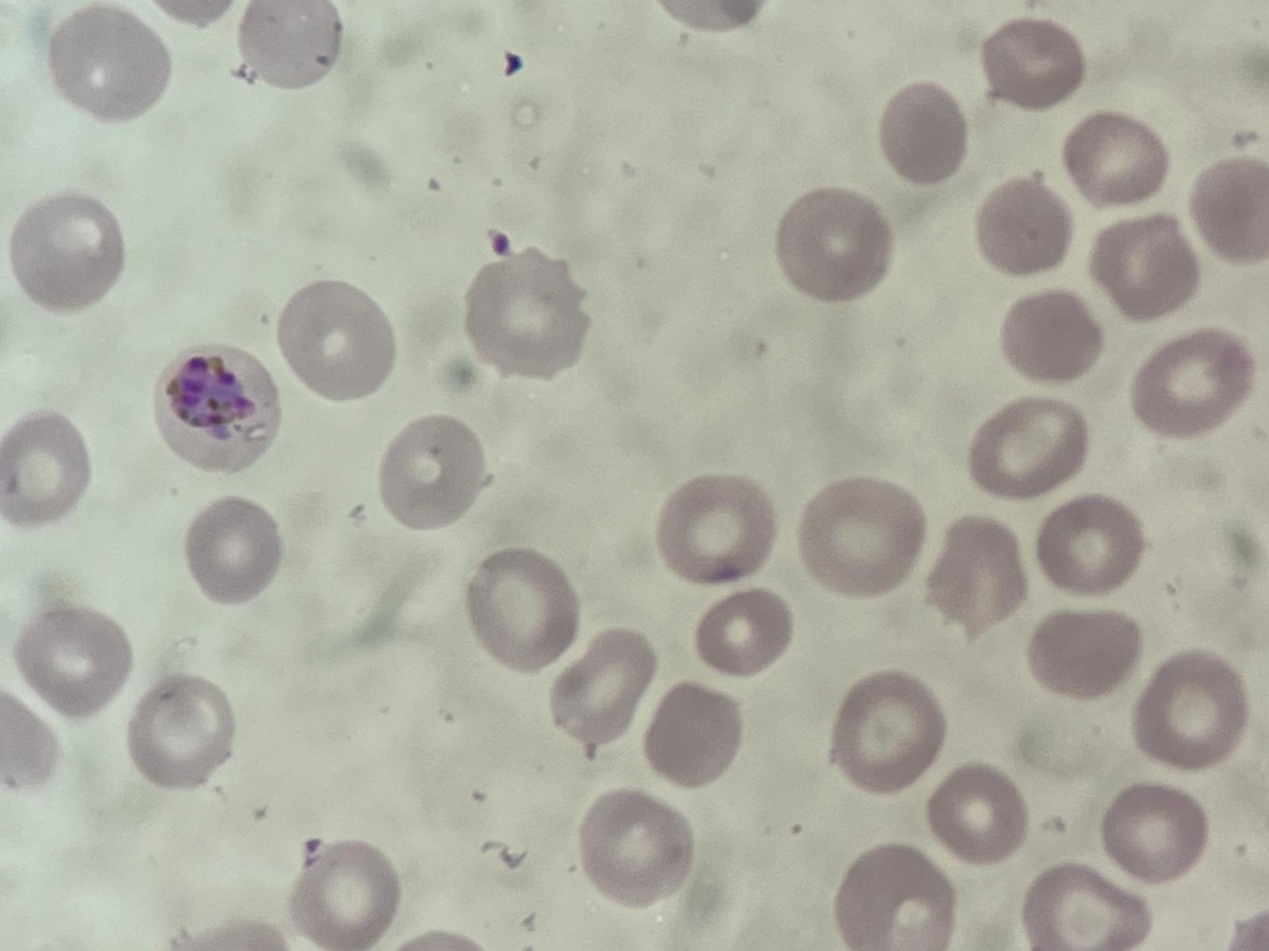Infected: (151, 344, 279, 472)
Uninfected: (463, 249, 589, 377), (5, 190, 127, 313), (797, 476, 923, 594), (275, 280, 397, 399), (47, 6, 169, 122), (829, 672, 947, 790), (1137, 325, 1254, 440), (14, 605, 131, 720), (465, 551, 579, 669), (577, 789, 691, 907), (655, 476, 777, 586), (773, 188, 894, 298), (831, 845, 953, 950), (378, 415, 488, 528), (923, 517, 1025, 638), (548, 629, 654, 745), (1135, 654, 1245, 765), (126, 679, 236, 789), (289, 841, 399, 948), (968, 397, 1085, 494), (182, 496, 284, 604), (1091, 214, 1196, 317), (641, 681, 742, 786), (1036, 495, 1144, 593), (1022, 864, 1145, 950), (0, 411, 92, 524), (1028, 608, 1141, 699), (926, 763, 1026, 862), (1103, 783, 1205, 879), (975, 178, 1073, 276), (1063, 112, 1167, 204), (877, 83, 970, 183), (983, 18, 1082, 110), (1005, 289, 1103, 378), (239, 1, 340, 87), (695, 589, 792, 676), (1189, 155, 1269, 260), (1017, 714, 1110, 778)
